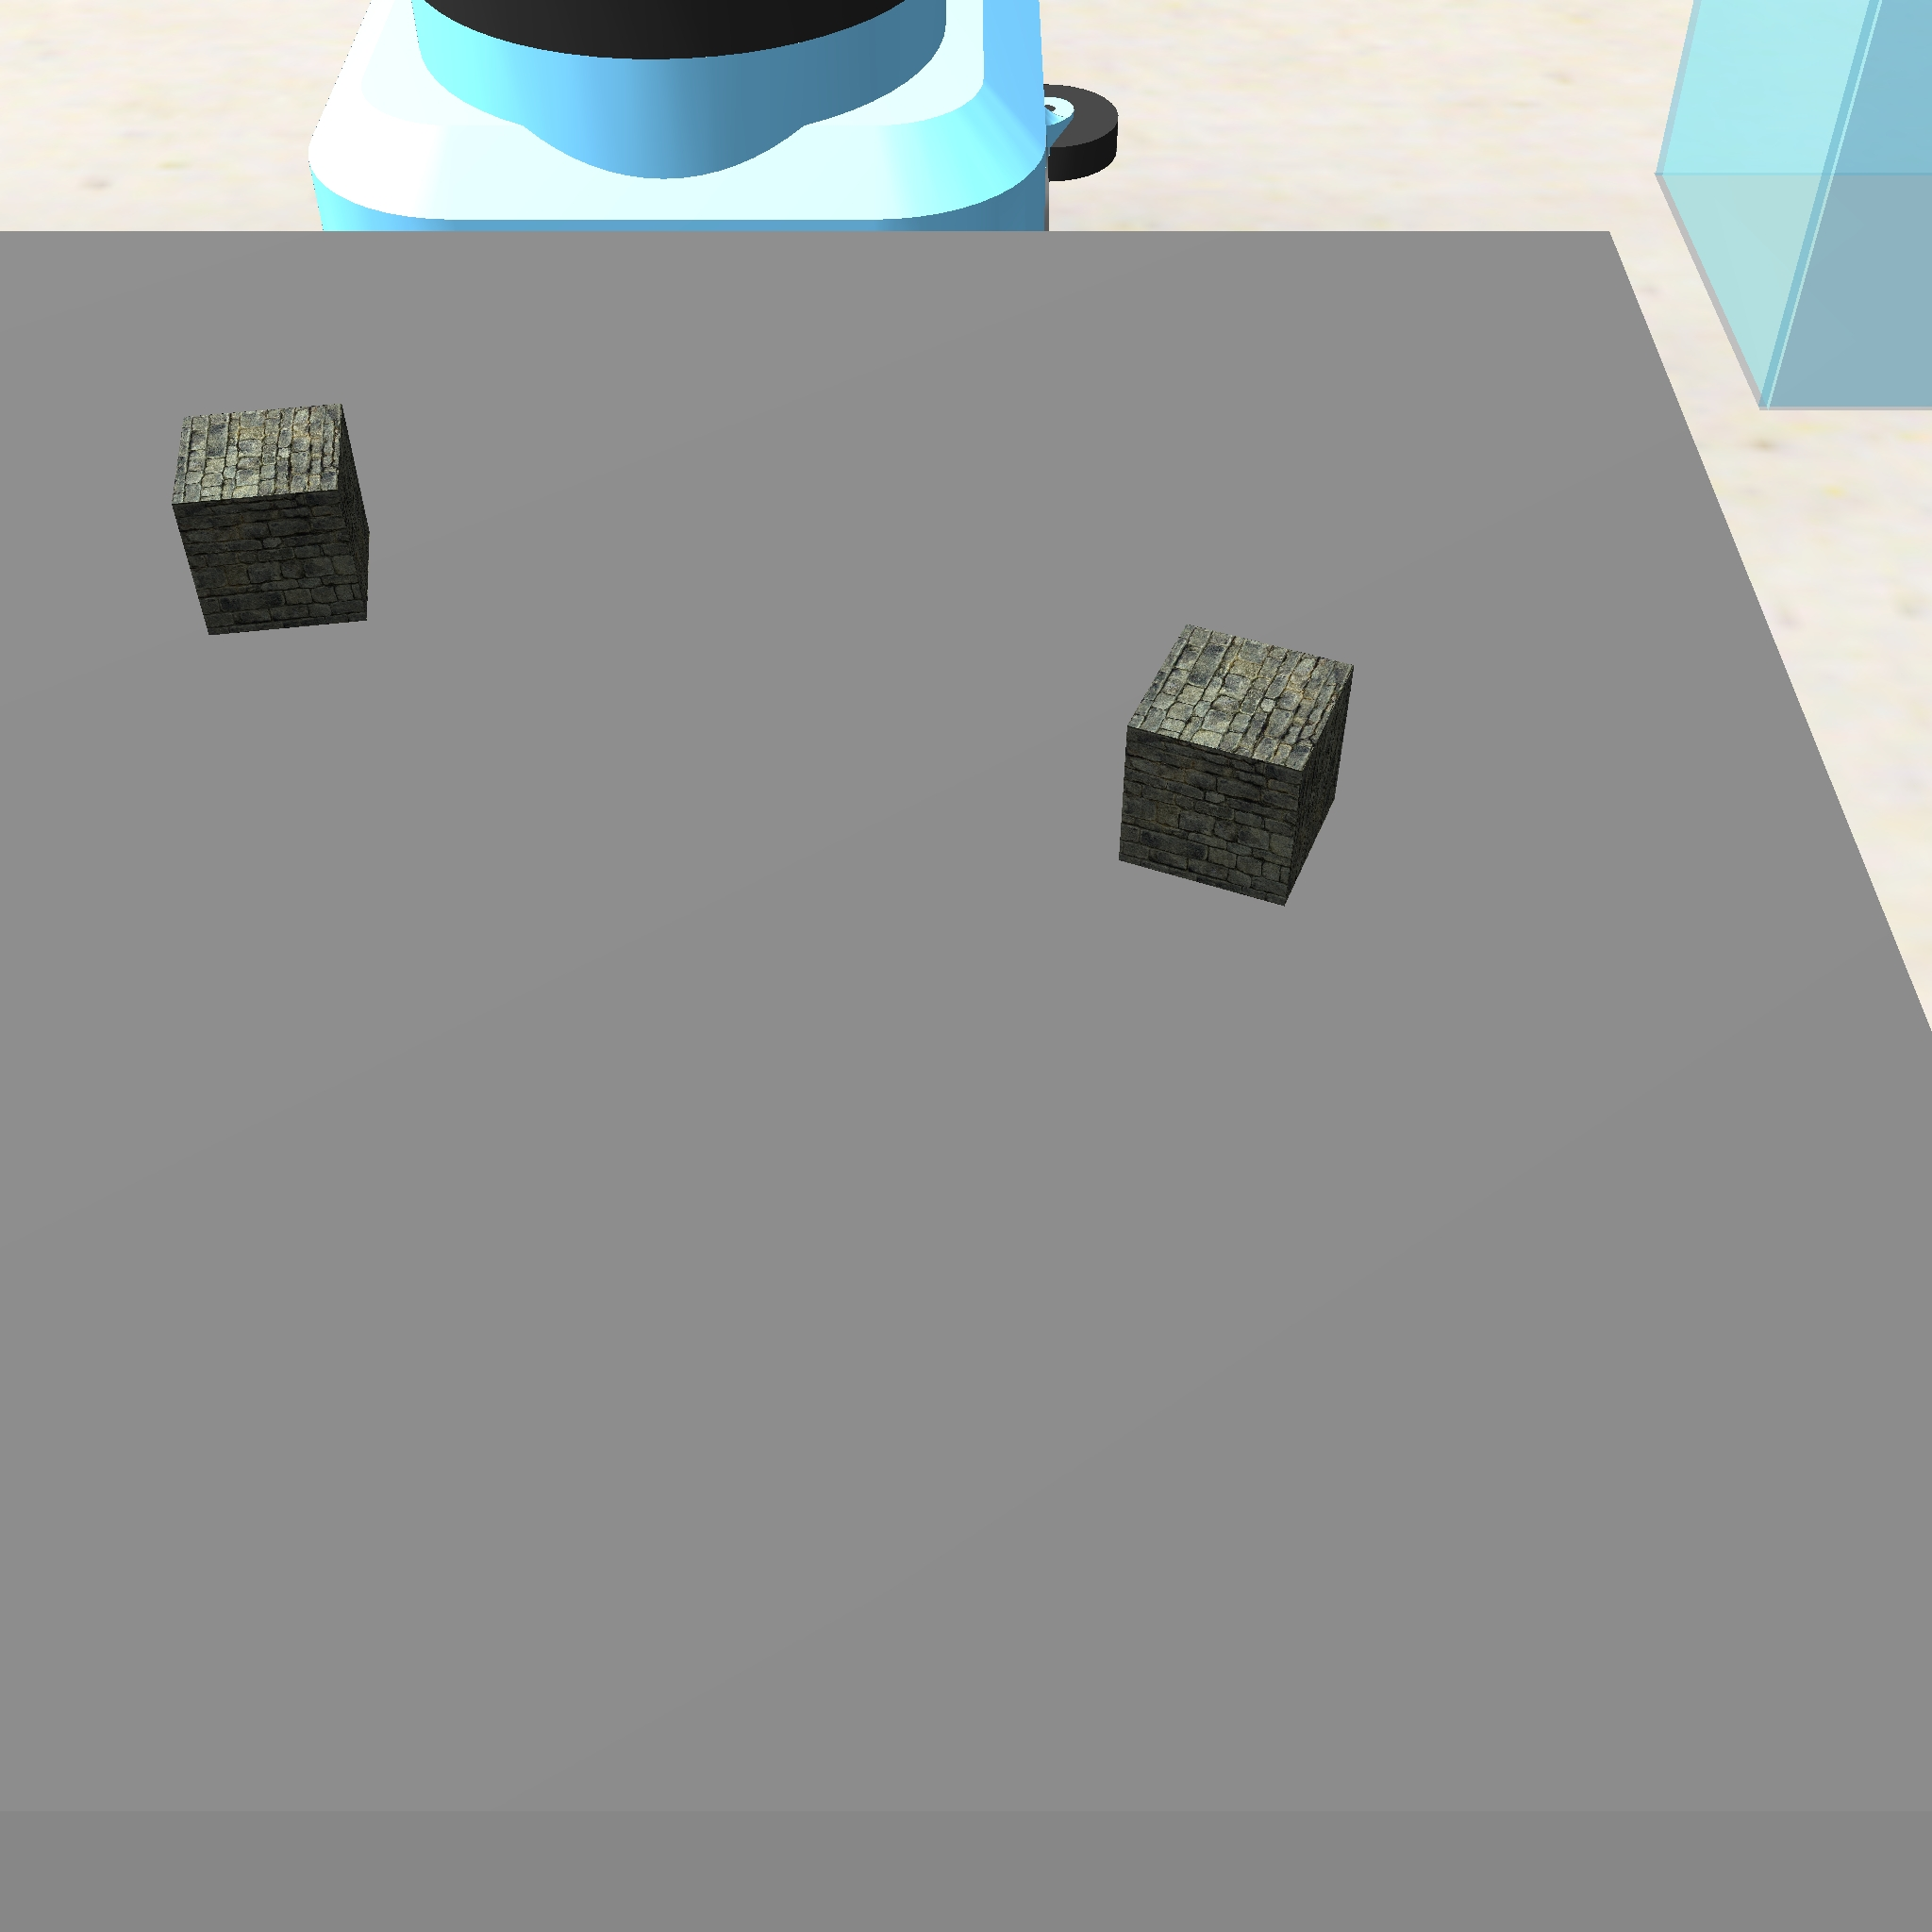cube: (1111, 619, 1366, 913), (165, 395, 380, 644)
